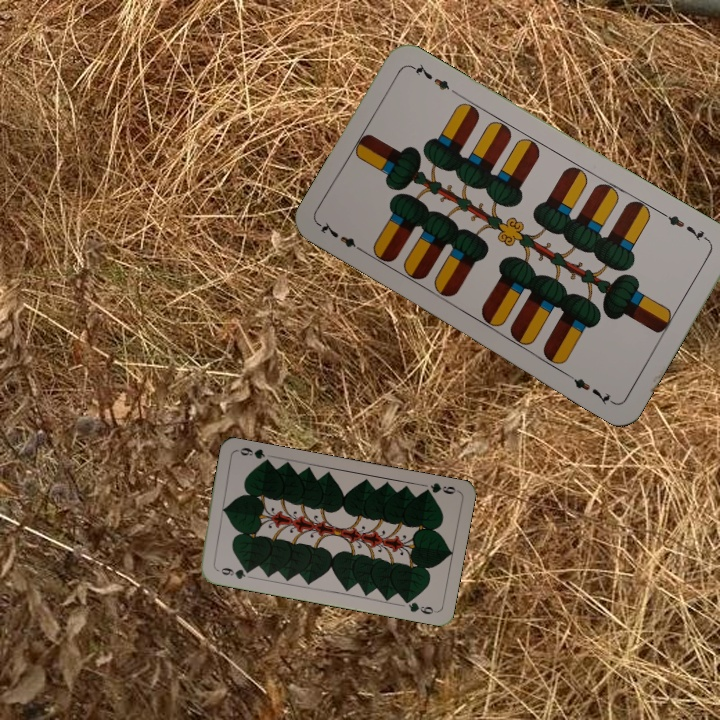E7: (316, 218, 369, 257), (658, 208, 712, 246)
G9: (419, 479, 460, 497), (217, 563, 253, 582)
